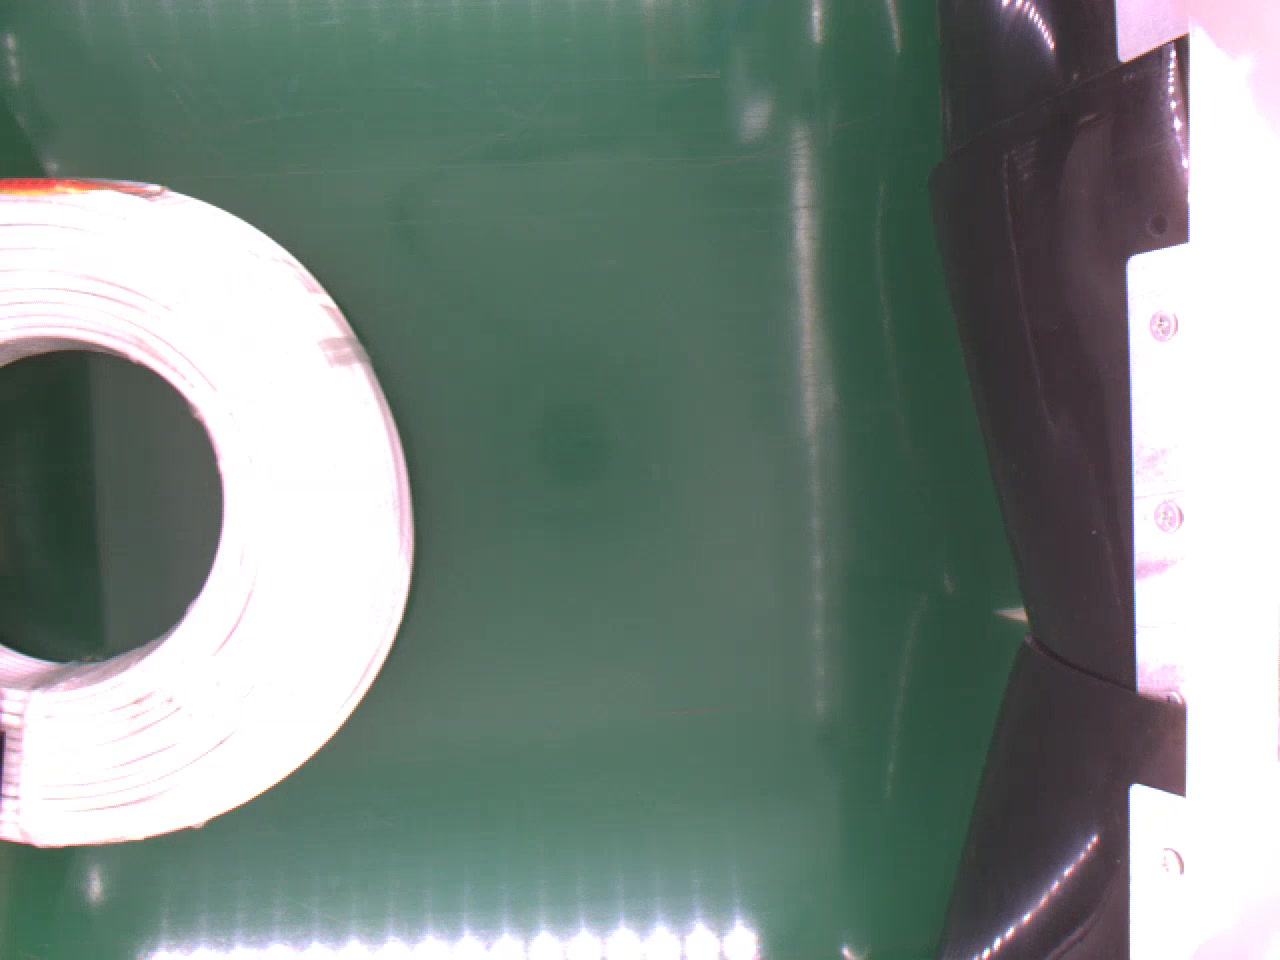white: (0, 175, 415, 844)
